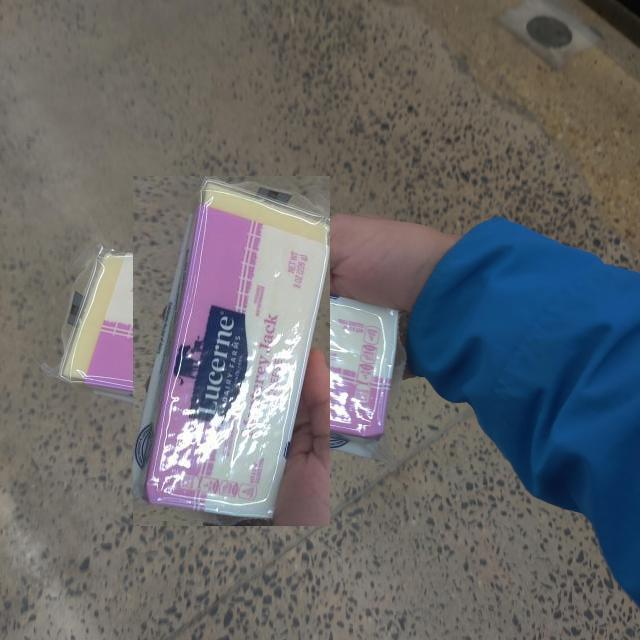Cheese: (132, 176, 330, 526)
